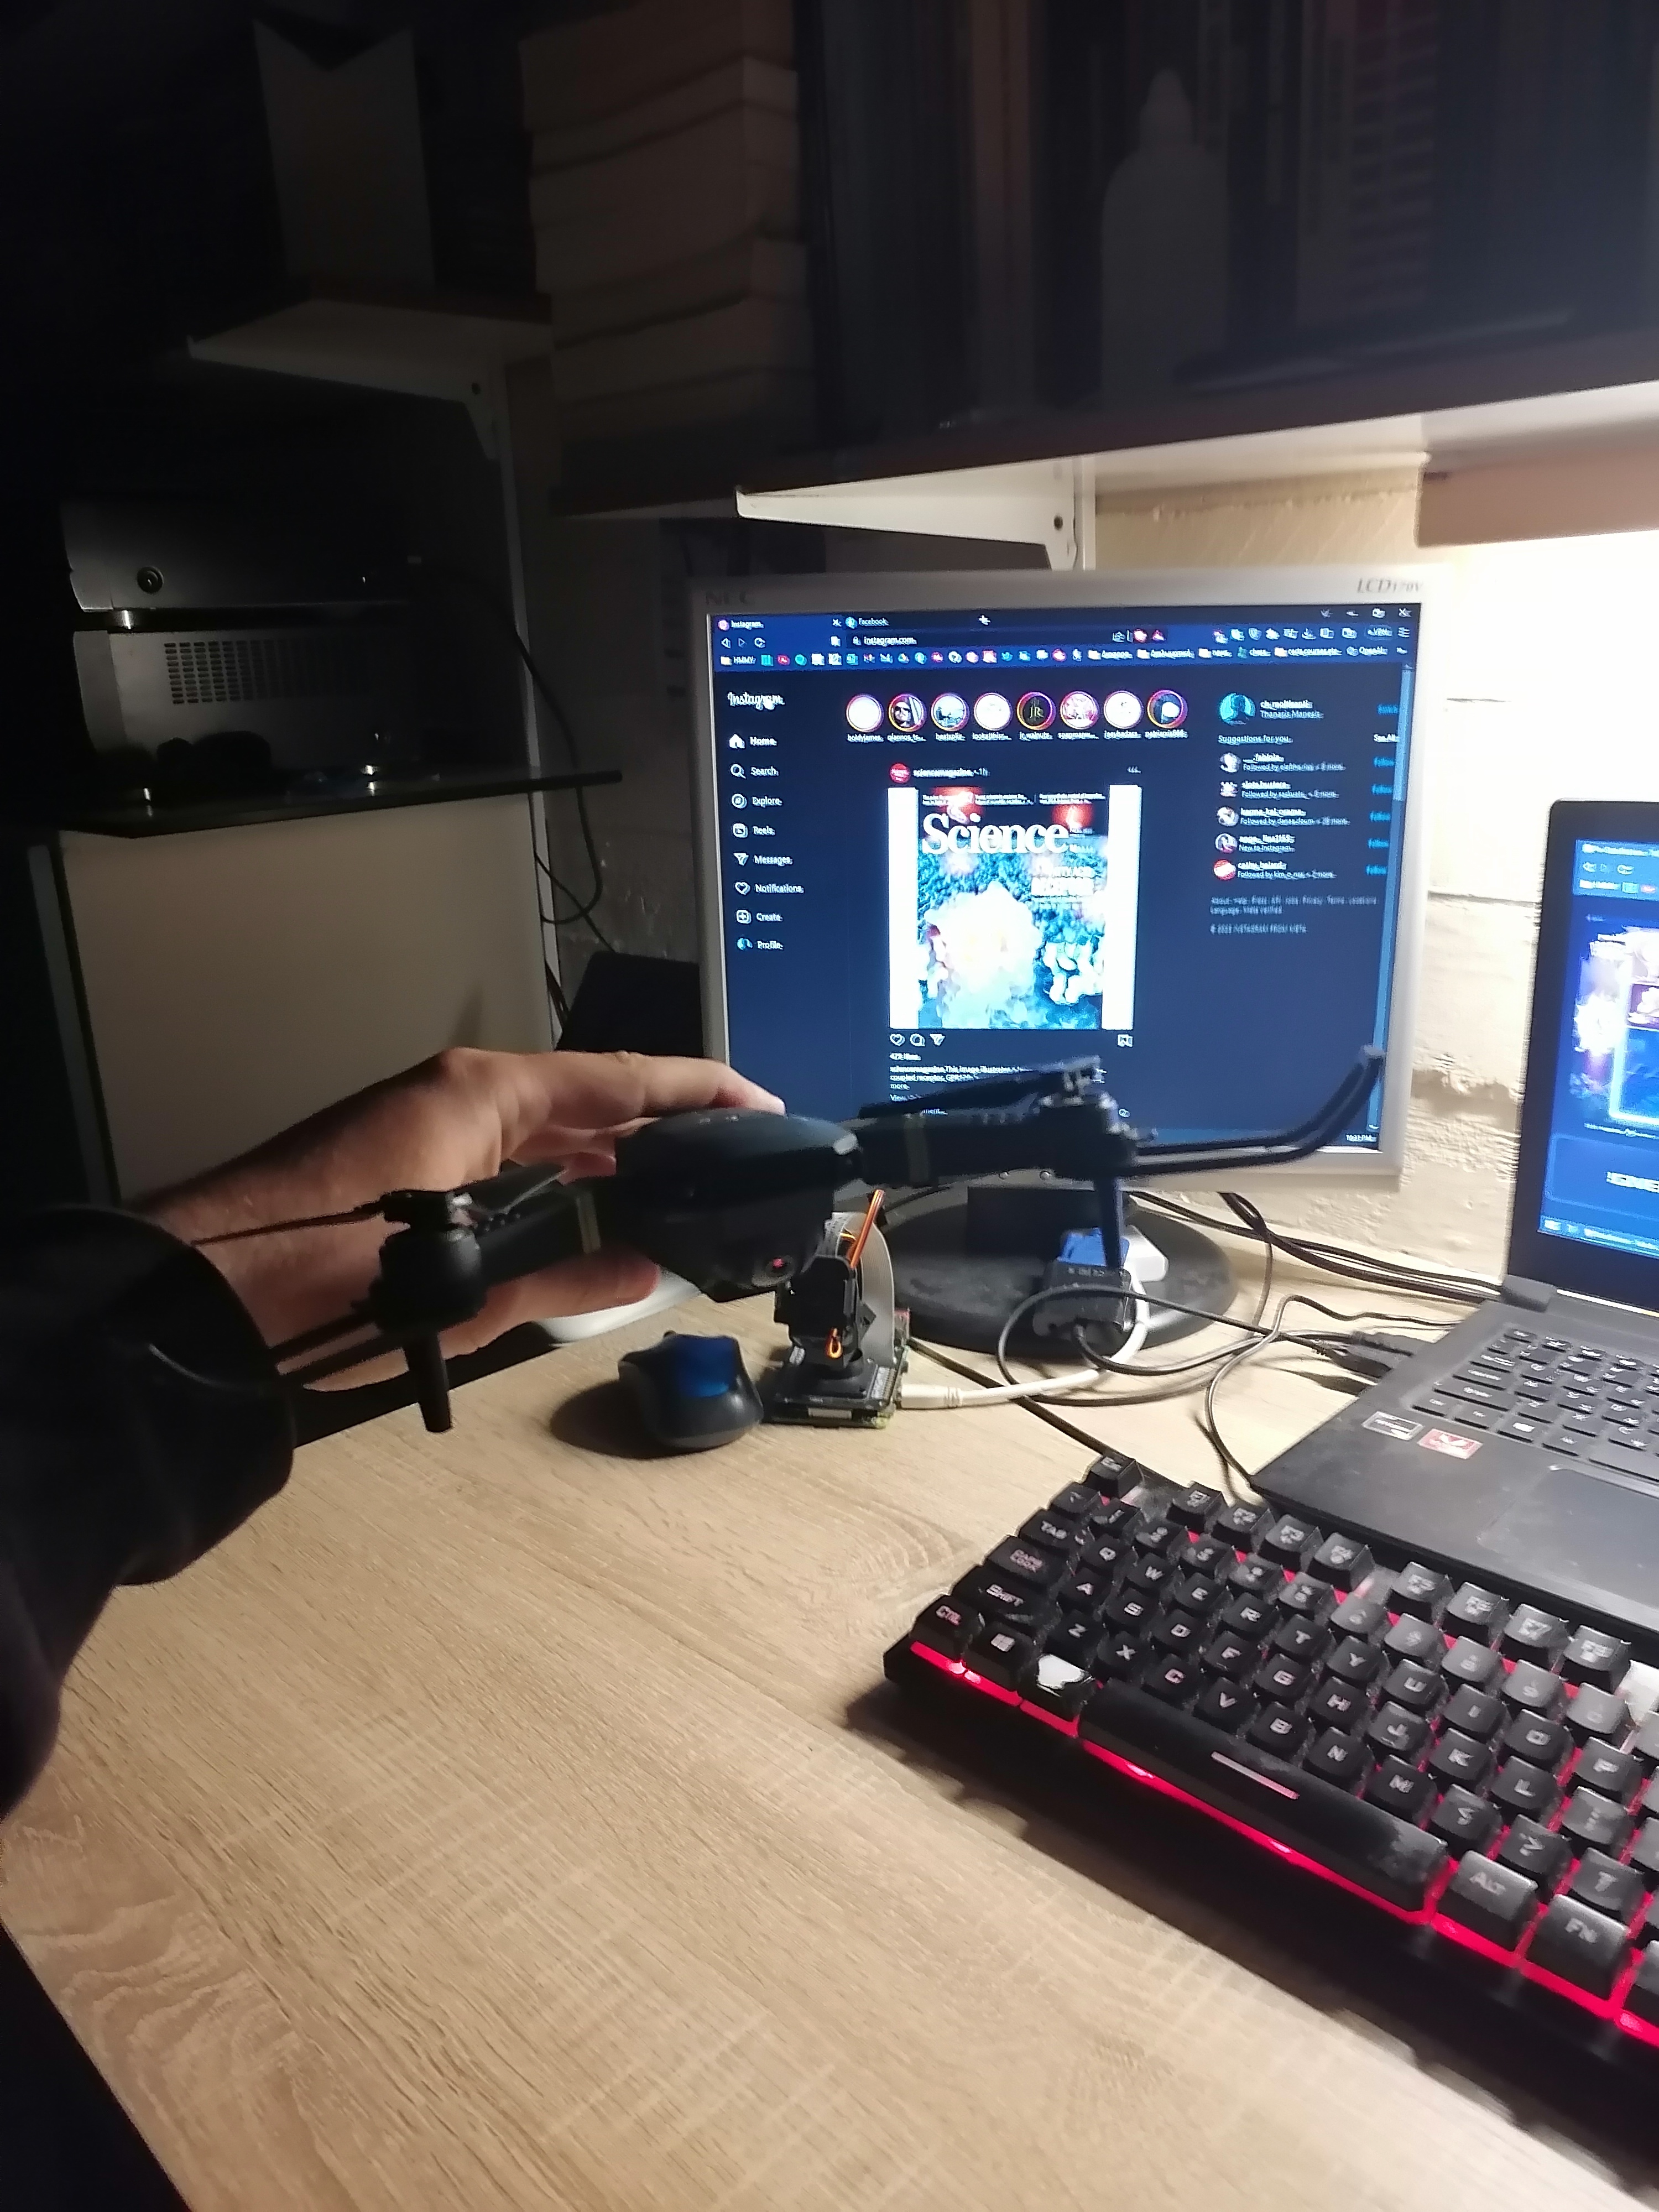drone: (68, 1050, 1222, 1460)
